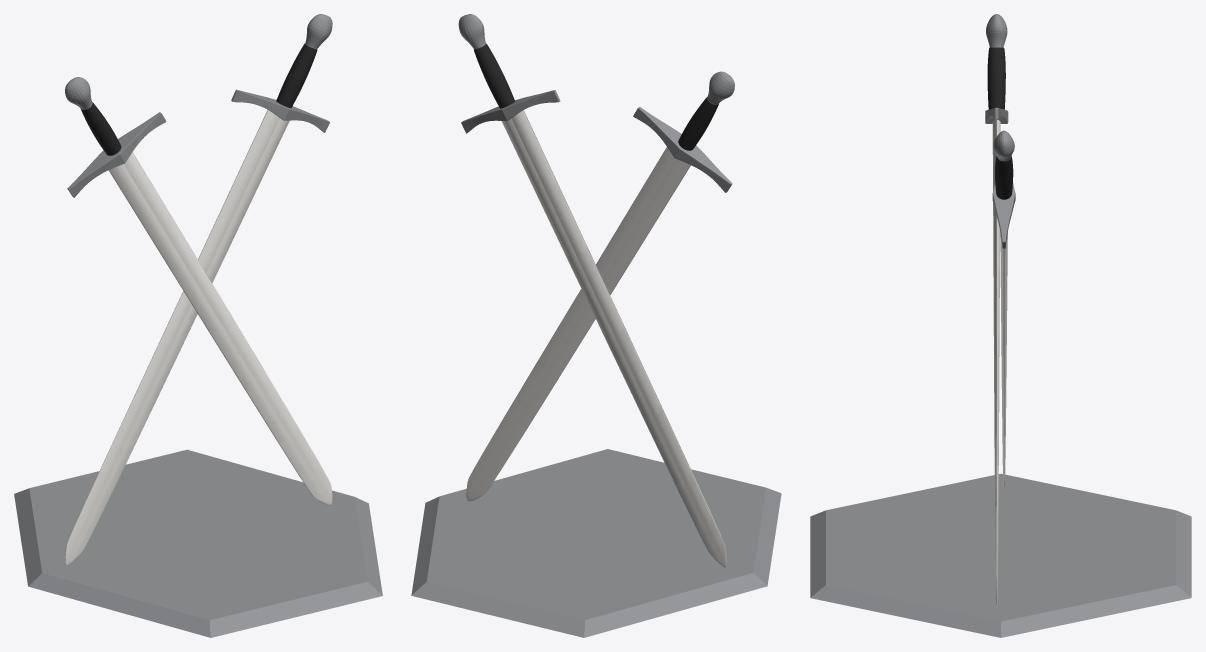
Rendered from Duel Melee (Swords).fbx.
3 views of the same model, side by side, from view 1: azimuth 30°, elevation 25°; view 2: azimuth 150°, elevation 25°; view 3: azimuth 270°, elevation 25° (orthographic). The views are drawn at different scales.
Visible parts, largest first — view 1: Piece Base.002; view 2: Piece Base.002; view 3: Piece Base.002.
Part boxes in pixels (left/top/right/bottom): Piece Base.002: left=14, top=14, right=382, bottom=637; Piece Base.002: left=411, top=14, right=781, bottom=637; Piece Base.002: left=810, top=14, right=1191, bottom=637.
Size of the model in its own units: 89.1 by 125 by 89.1.
